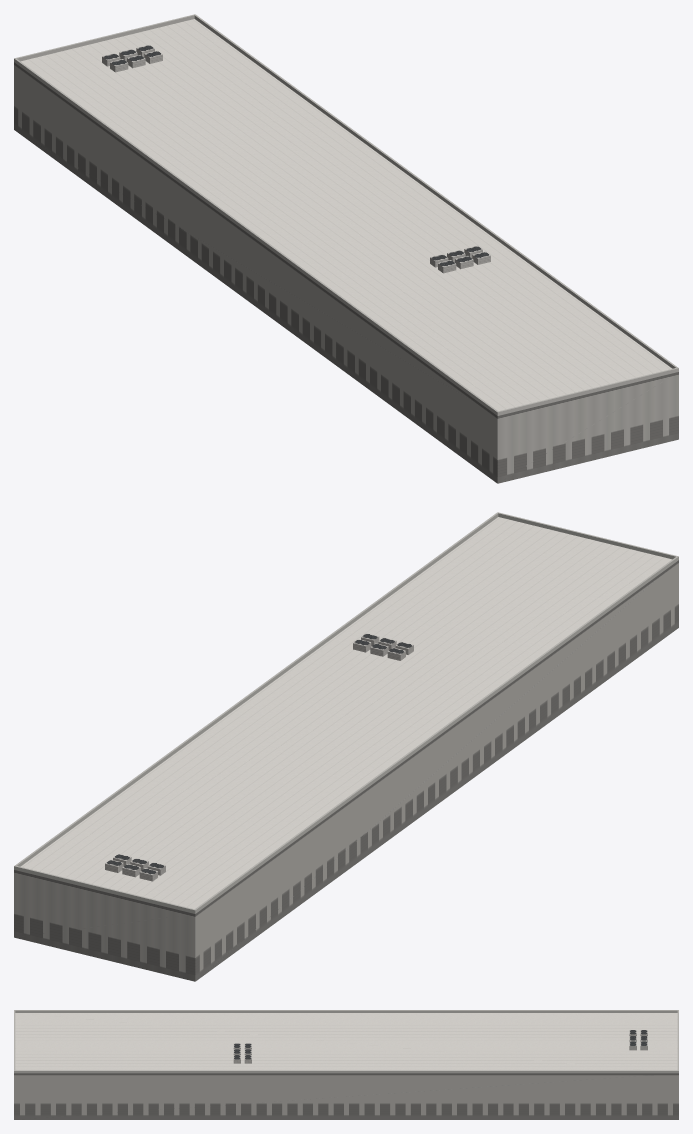
Rendered from khsv_cargo_42x194.glb.
3 renders of one model, top to bottom at view 1: azimuth 30°, elevation 25°; view 2: azimuth 150°, elevation 25°; view 3: azimuth 270°, elevation 25°, orthographic. The views are drawn at different scales.
Parts seen in each view (by area): view 1: khsv_cargo_42x194_roof, khsv_cargo_42x194_cargo_wall, khsv_cargo_42x194_coping, khsv_cargo_42x194_ac_side, khsv_cargo_42x194_ac_top; view 2: khsv_cargo_42x194_roof, khsv_cargo_42x194_cargo_wall, khsv_cargo_42x194_coping, khsv_cargo_42x194_ac_side, khsv_cargo_42x194_ac_top; view 3: khsv_cargo_42x194_roof, khsv_cargo_42x194_cargo_wall, khsv_cargo_42x194_coping, khsv_cargo_42x194_ac_top, khsv_cargo_42x194_ac_side.
Part boxes in pixels (x1,y1,x2,y2): khsv_cargo_42x194_roof: [21, 19, 672, 411]; khsv_cargo_42x194_cargo_wall: [14, 62, 678, 483]; khsv_cargo_42x194_coping: [14, 14, 678, 415]; khsv_cargo_42x194_ac_side: [102, 48, 490, 273]; khsv_cargo_42x194_ac_top: [102, 44, 490, 266]; khsv_cargo_42x194_roof: [20, 517, 671, 909]; khsv_cargo_42x194_cargo_wall: [14, 560, 678, 981]; khsv_cargo_42x194_coping: [14, 512, 678, 913]; khsv_cargo_42x194_ac_side: [105, 637, 413, 881]; khsv_cargo_42x194_ac_top: [105, 633, 413, 874]; khsv_cargo_42x194_roof: [15, 1013, 677, 1070]; khsv_cargo_42x194_cargo_wall: [14, 1073, 678, 1119]; khsv_cargo_42x194_coping: [14, 1010, 678, 1073]; khsv_cargo_42x194_ac_top: [233, 1030, 647, 1059]; khsv_cargo_42x194_ac_side: [233, 1034, 647, 1063].
Bounding box in the file's own units: 42 × 16.4 × 194.
5 materials, 5 textured.
